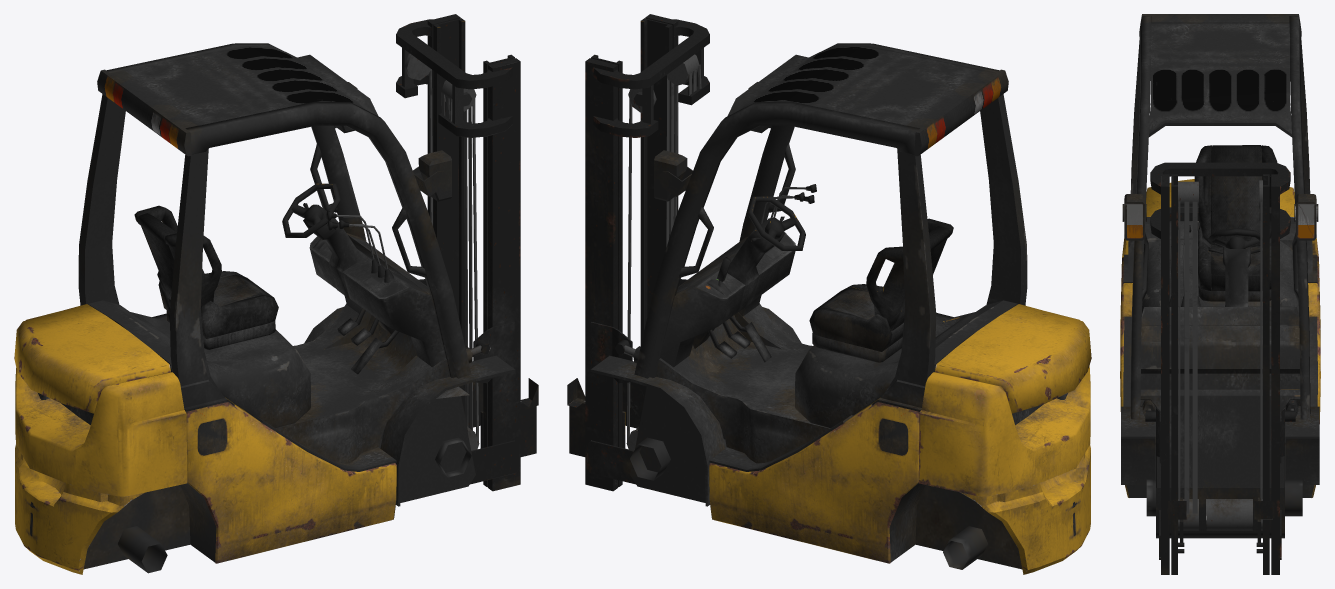
File: body_correct_scale.dae
3 views of the same model, side by side, from view 1: azimuth 30°, elevation 25°; view 2: azimuth 150°, elevation 25°; view 3: azimuth 270°, elevation 25° (orthographic). The views are drawn at different scales.
Visible parts, largest first — view 1: Loader_car_Loader_car_Material_0; view 2: Loader_car_Loader_car_Material_0; view 3: Loader_car_Loader_car_Material_0.
Part boxes in pixels (box(x1,y1,x2,y2)): Loader_car_Loader_car_Material_0: box(14, 14, 538, 574); Loader_car_Loader_car_Material_0: box(567, 14, 1091, 574); Loader_car_Loader_car_Material_0: box(1120, 14, 1320, 574).
Size of the model in its own units: 2.29 by 0.895 by 2.
1 material, 1 textured.
